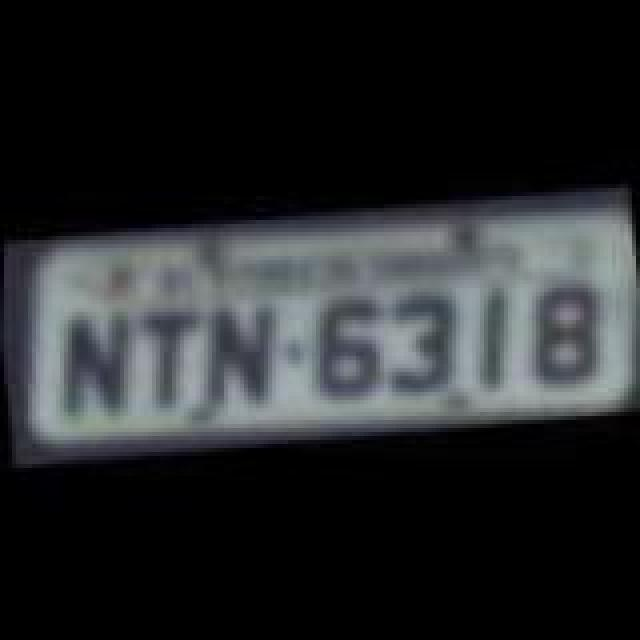1: (458, 276, 518, 388)
3: (372, 278, 460, 394)
6: (302, 284, 386, 396)
8: (524, 274, 612, 386)
N: (40, 300, 140, 424), (190, 292, 286, 412)
T: (122, 296, 210, 416)
